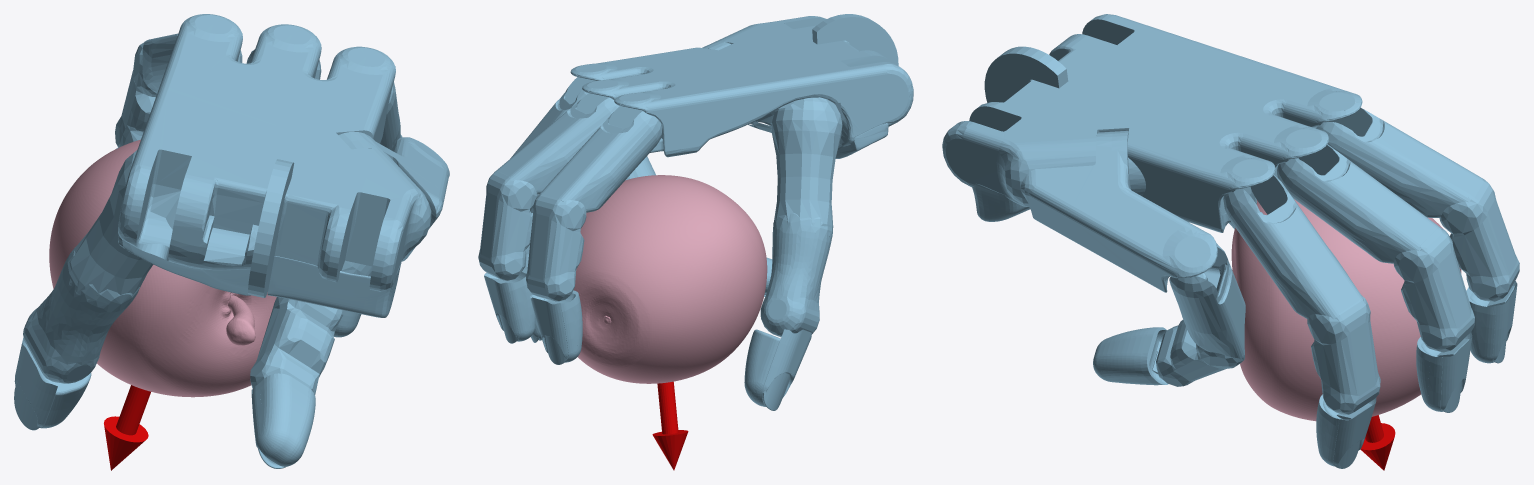
3 views of the same model, side by side, from view 1: azimuth 30°, elevation 25°; view 2: azimuth 150°, elevation 25°; view 3: azimuth 270°, elevation 25° (orthographic). The views are drawn at different scales.
Visible parts, largest first — view 1: world, apple.stl; view 2: world, apple.stl; view 3: world, apple.stl.
Boxes of the visible parts, <box> form: world: <box>14,14,449,470</box>; apple.stl: <box>49,139,276,397</box>; world: <box>478,14,913,470</box>; apple.stl: <box>573,175,767,383</box>; world: <box>942,14,1519,470</box>; apple.stl: <box>1231,199,1461,421</box>.
Size of the model in its own units: 0.1338 by 0.1405 by 0.1799.
